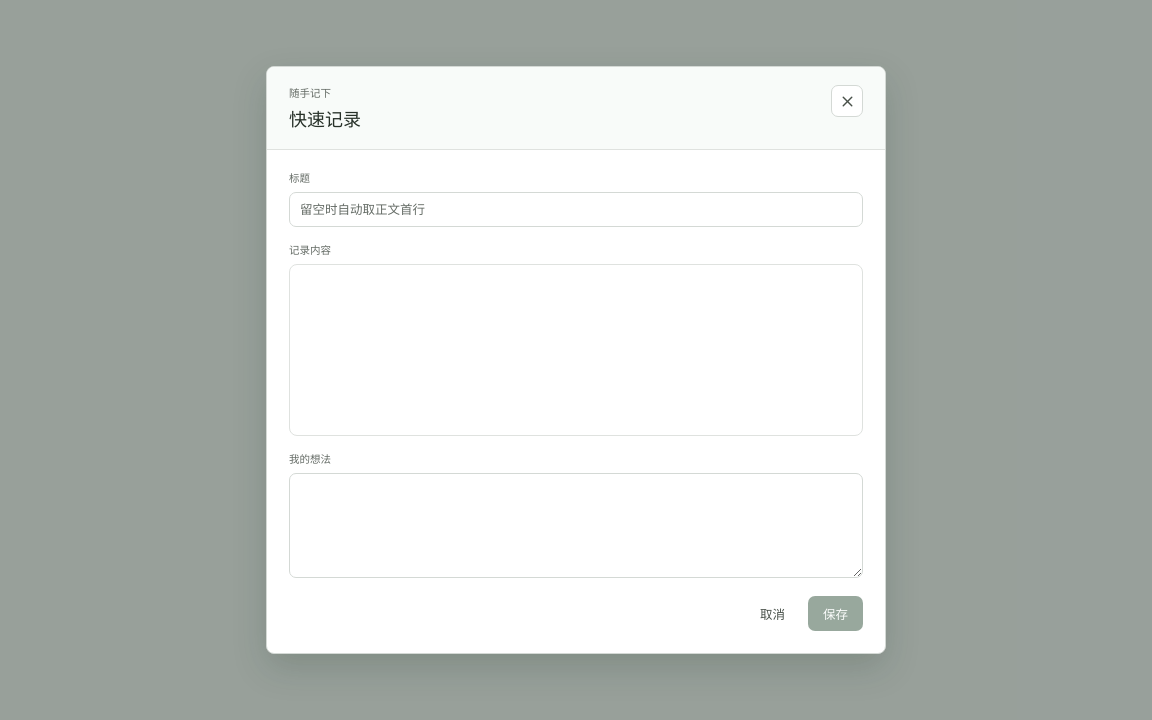
Test: QuickCapture › keeps the draft and shows recovery guidance when saving fails
The width and height of the screenshot is (1152, 720).
Clear the field named "记录内容" at (576, 350), box 290,265 -> 862,435
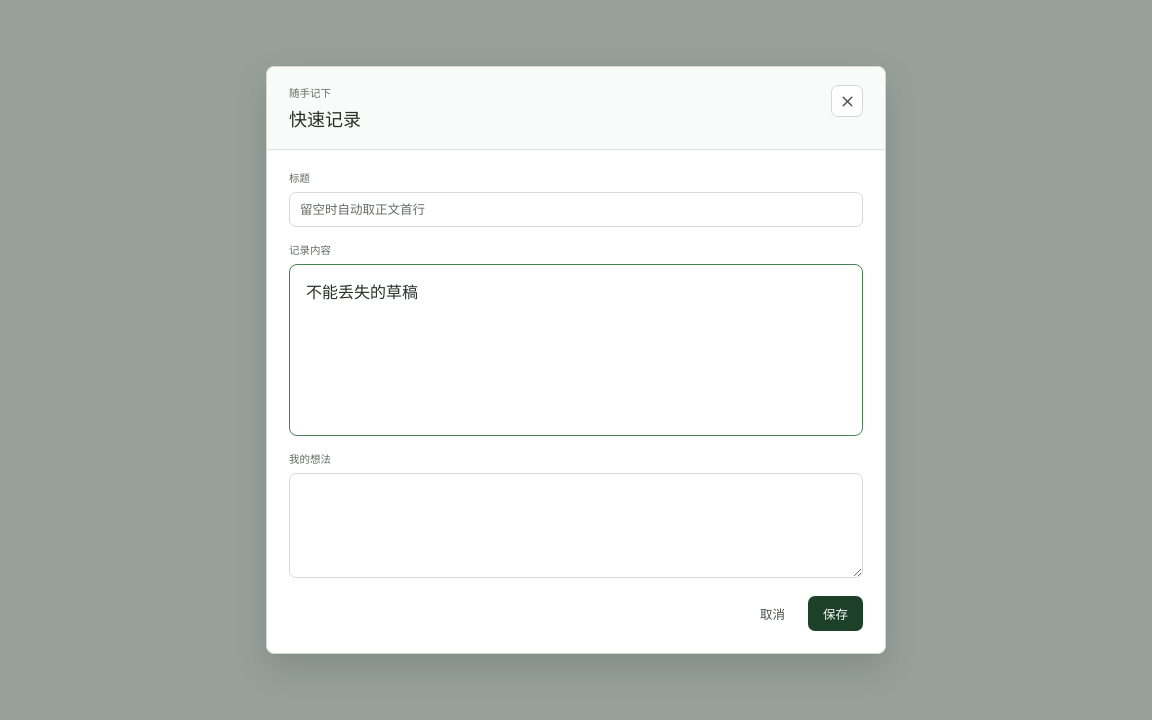
Type "继续补充" into the text box labelled "我的想法" at (576, 526), box 289,473 -> 863,578
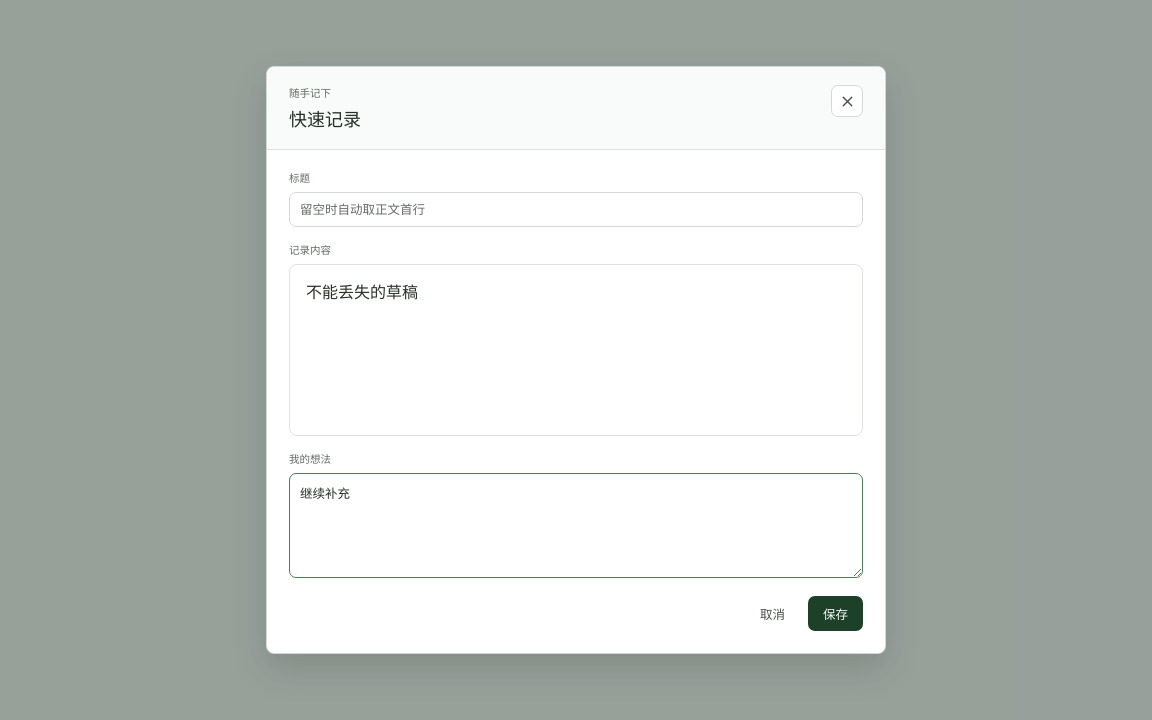
Result: the button "保存" is enabled
Click the button "保存" at (836, 613), box 808,596 -> 863,631
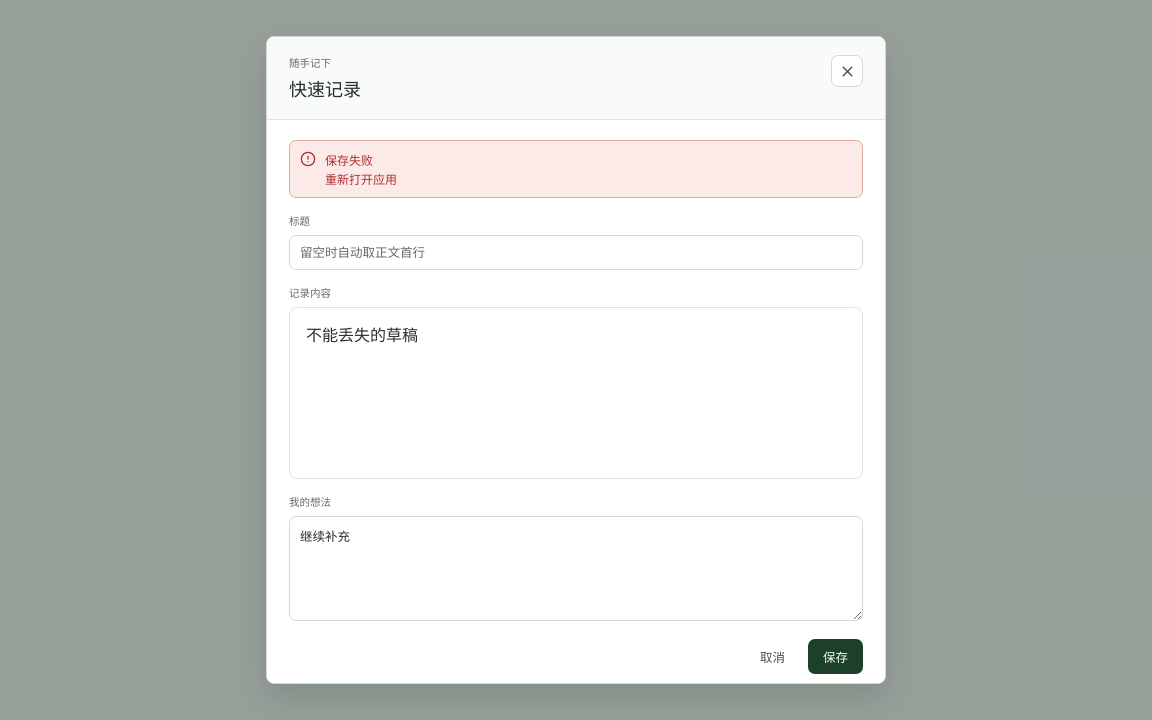
Result: the message shows "保存失败" at 325,153 -> 373,168
Result: the message shows "重新打开应用" at 325,172 -> 397,187
